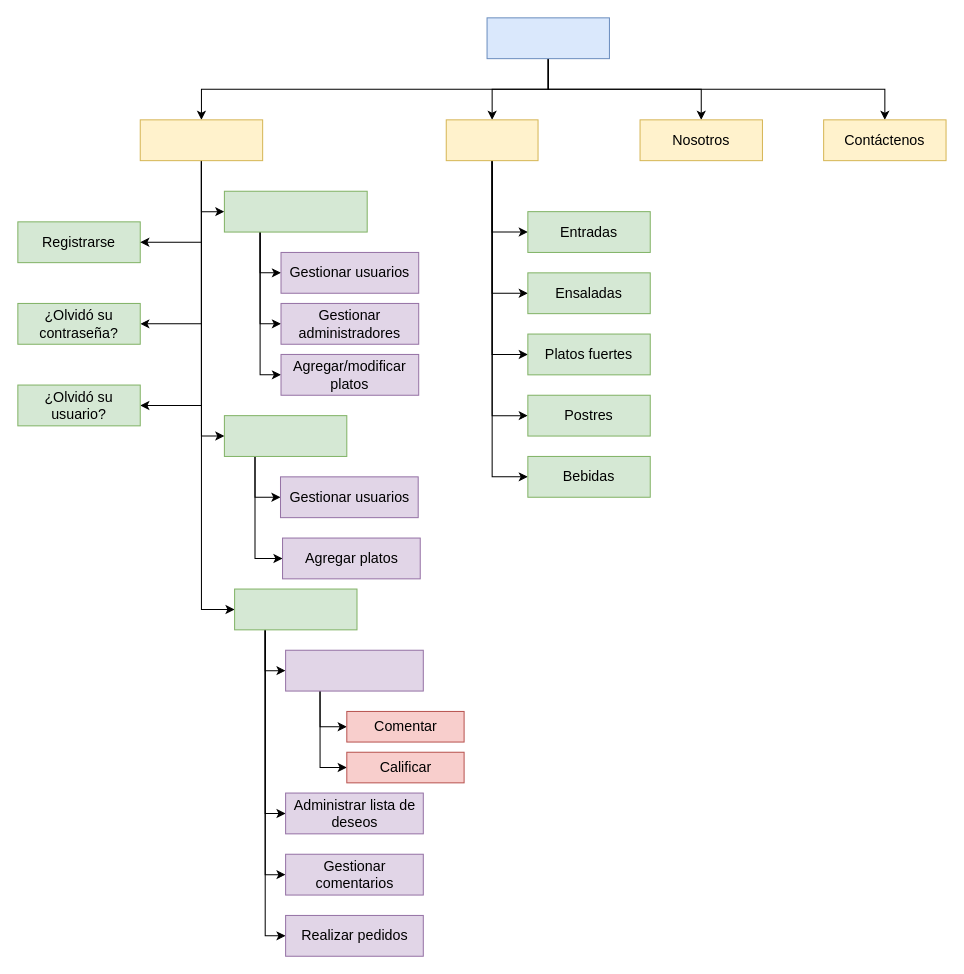
This 964x974 diagram has some shape labels left out. The shapes that lost their labels are listed below. From the top down, each one's box as (x1, y1, x2, y2) in pixels, then its label:
(486, 17, 609, 59): Restaurante Cupbop
(139, 119, 263, 161): Iniciar sesión
(445, 119, 538, 161): Menú
(223, 190, 367, 232): Superadministrador
(223, 415, 347, 456): Administrador
(234, 588, 357, 630): Usuario
(285, 649, 423, 691): Buscar platos
